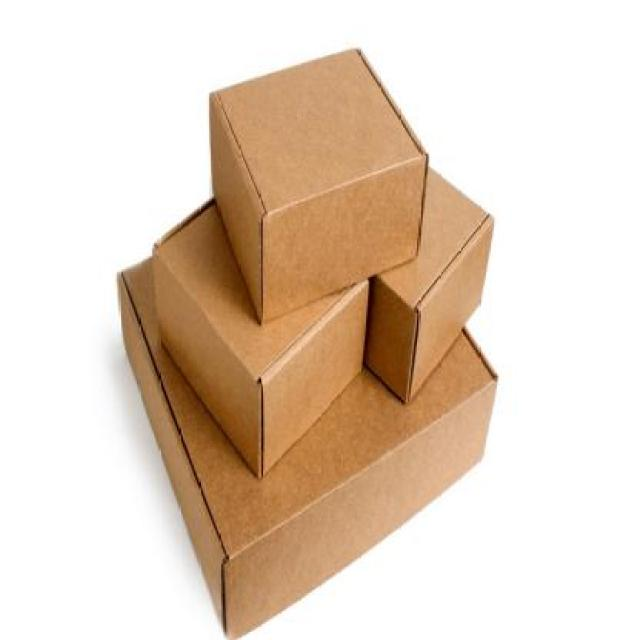box: (100, 262, 509, 640), (146, 173, 377, 486), (194, 33, 428, 325), (364, 180, 527, 428)
